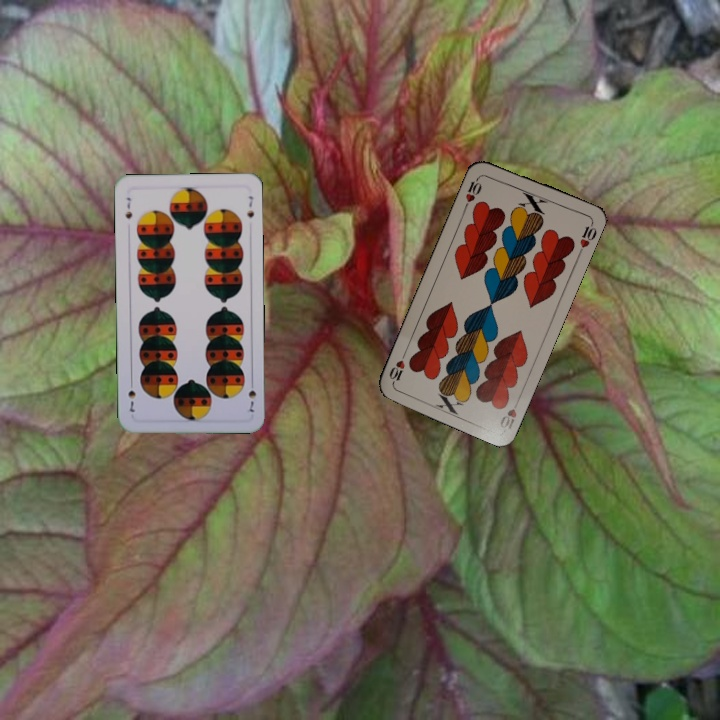H10: (496, 394, 523, 434), (460, 172, 484, 211)
S7: (243, 376, 259, 416), (121, 193, 135, 221)
